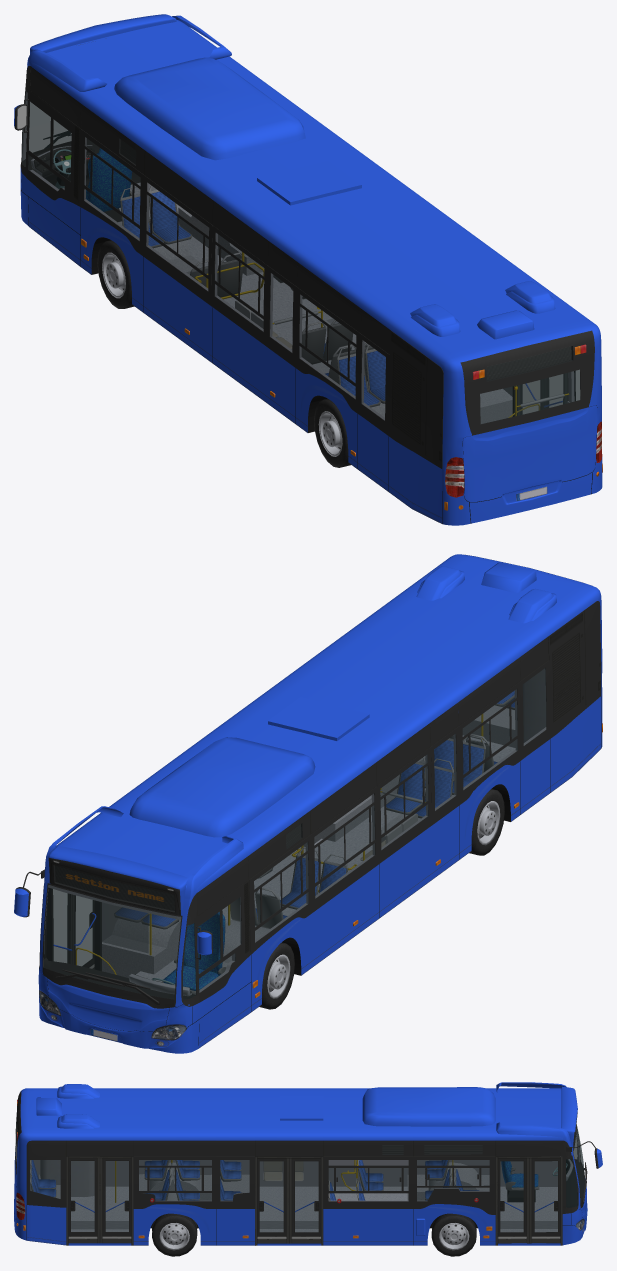
The model's file is Lowpoly_CityBus_blue.FBX.
3 renders of one model, top to bottom at view 1: azimuth 30°, elevation 25°; view 2: azimuth 150°, elevation 25°; view 3: azimuth 270°, elevation 25°, orthographic. The views are drawn at different scales.
Parts seen in each view (by area): view 1: EXTE_BUS_STRUCTURE_blue, glass, INTE_BUS_STRUCTURE, driver_seat, WheelFL, WheelRL, CHAIR_053, CHAIR_034, CHAIR_044, CHAIR_059, CHAIR_057, CHAIR_043; view 2: EXTE_BUS_STRUCTURE_blue, glass, INTE_BUS_STRUCTURE, driver_seat, WheelRL, WheelFL, DOOR_1B, DOOR_1A, CHAIR_046, CHAIR_057, CHAIR_043, CHAIR_042 (+1 smaller); view 3: EXTE_BUS_STRUCTURE_blue, INTE_BUS_STRUCTURE, glass, DOOR_2B, DOOR_2A, DOOR_1B, DOOR_1A, DOOR_3A, DOOR_3B, WheelRR, WheelFR, driver_seat (+7 smaller).
Boxes of the visible parts, bbox=[...] form: EXTE_BUS_STRUCTURE_blue: bbox=[14, 14, 602, 525]; glass: bbox=[22, 90, 580, 423]; INTE_BUS_STRUCTURE: bbox=[22, 90, 568, 423]; driver_seat: bbox=[86, 148, 132, 221]; WheelFL: bbox=[97, 240, 134, 308]; WheelRL: bbox=[314, 398, 350, 467]; CHAIR_053: bbox=[149, 185, 191, 244]; CHAIR_034: bbox=[365, 344, 385, 403]; CHAIR_044: bbox=[337, 346, 380, 407]; CHAIR_059: bbox=[120, 186, 163, 248]; CHAIR_057: bbox=[217, 252, 243, 297]; CHAIR_043: bbox=[301, 321, 326, 364]; EXTE_BUS_STRUCTURE_blue: bbox=[14, 554, 602, 1053]; glass: bbox=[44, 668, 546, 999]; INTE_BUS_STRUCTURE: bbox=[43, 668, 546, 999]; driver_seat: bbox=[162, 912, 225, 995]; WheelRL: bbox=[469, 789, 504, 855]; WheelFL: bbox=[259, 942, 294, 1009]; DOOR_1B: bbox=[72, 895, 96, 968]; DOOR_1A: bbox=[53, 889, 72, 963]; CHAIR_046: bbox=[386, 757, 425, 814]; CHAIR_057: bbox=[280, 847, 320, 909]; CHAIR_043: bbox=[414, 758, 453, 818]; CHAIR_042: bbox=[452, 735, 485, 794]; EXTE_BUS_STRUCTURE_blue: bbox=[14, 1082, 602, 1245]; INTE_BUS_STRUCTURE: bbox=[15, 1129, 584, 1232]; glass: bbox=[15, 1119, 584, 1207]; DOOR_2B: bbox=[257, 1158, 289, 1243]; DOOR_2A: bbox=[289, 1158, 321, 1243]; DOOR_1B: bbox=[498, 1158, 529, 1243]; DOOR_1A: bbox=[529, 1158, 560, 1243]; DOOR_3A: bbox=[100, 1158, 131, 1243]; DOOR_3B: bbox=[68, 1158, 99, 1243]; WheelRR: bbox=[152, 1213, 197, 1256]; WheelFR: bbox=[431, 1213, 476, 1256]; driver_seat: bbox=[501, 1161, 539, 1202].
Size of the model in its own units: 3.03 by 3.35 by 13.57.
